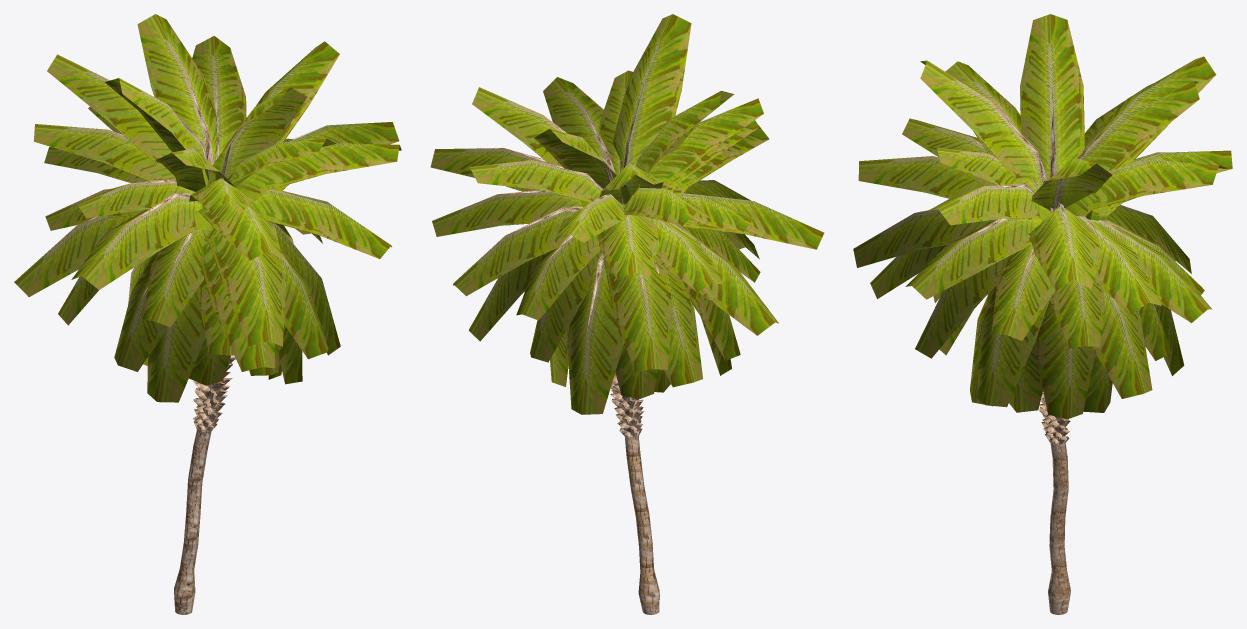
Rendered from palm0_LQ.glb.
The picture shows the model from 3 angles, left to right: view 1: azimuth 30°, elevation 25°; view 2: azimuth 150°, elevation 25°; view 3: azimuth 270°, elevation 25°; orthographic projection. The views are drawn at different scales.
Parts seen in each view (by area): view 1: palm02, date_palm_leaf; view 2: palm02, date_palm_leaf; view 3: palm02, date_palm_leaf.
Boxes of the visible parts, left/top/right/bottom form: palm02: left=14, top=14, right=401, bottom=402; date_palm_leaf: left=81, top=73, right=306, bottom=614; palm02: left=430, top=14, right=824, bottom=414; date_palm_leaf: left=498, top=83, right=714, bottom=614; palm02: left=853, top=14, right=1232, bottom=419; date_palm_leaf: left=917, top=80, right=1151, bottom=614.
Size of the model in its own units: 80.23 by 118 by 70.88.
2 materials, 2 textured.
